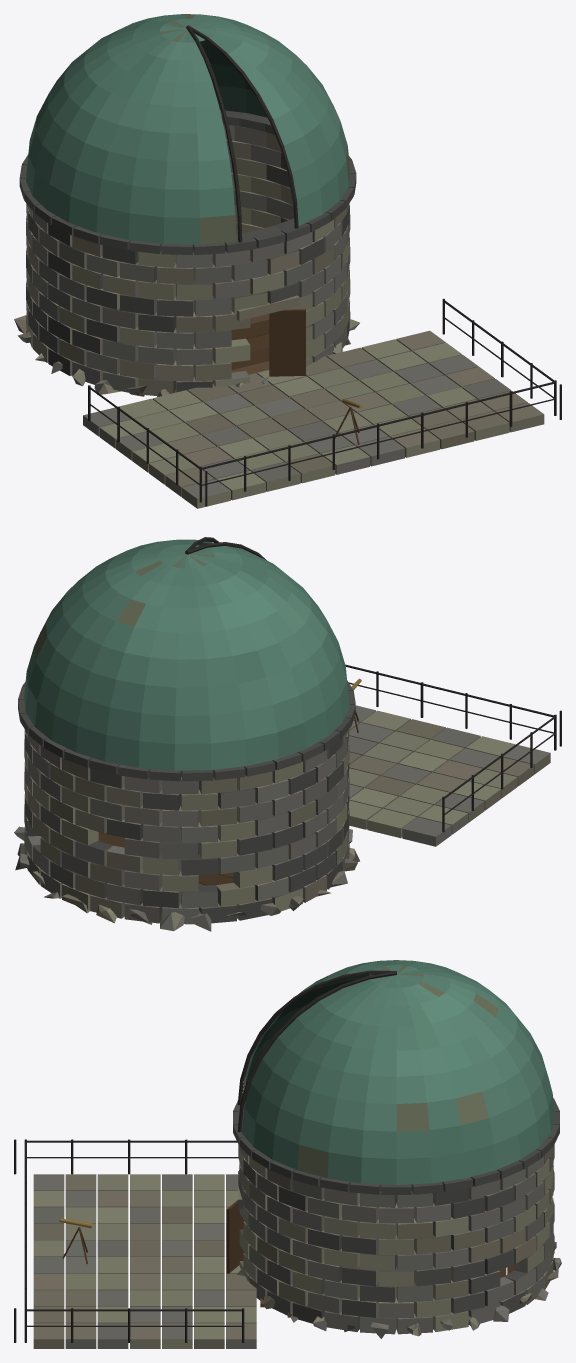
File: observatory.glb
The picture shows the model from 3 angles, top to bottom: view 1: azimuth 30°, elevation 25°; view 2: azimuth 150°, elevation 25°; view 3: azimuth 270°, elevation 25°; orthographic projection. The views are drawn at different scales.
Parts seen in each view (by area): view 1: observatory, observatory-roof; view 2: observatory, observatory-roof; view 3: observatory, observatory-roof.
Part boxes in pixels (bbox=[...]): observatory: bbox=[14, 110, 561, 508]; observatory-roof: bbox=[26, 14, 350, 244]; observatory: bbox=[14, 664, 561, 931]; observatory-roof: bbox=[24, 537, 349, 770]; observatory: bbox=[14, 1095, 561, 1348]; observatory-roof: bbox=[237, 960, 554, 1184].
Size of the model in its own units: 11.27 by 9.29 by 15.38.
